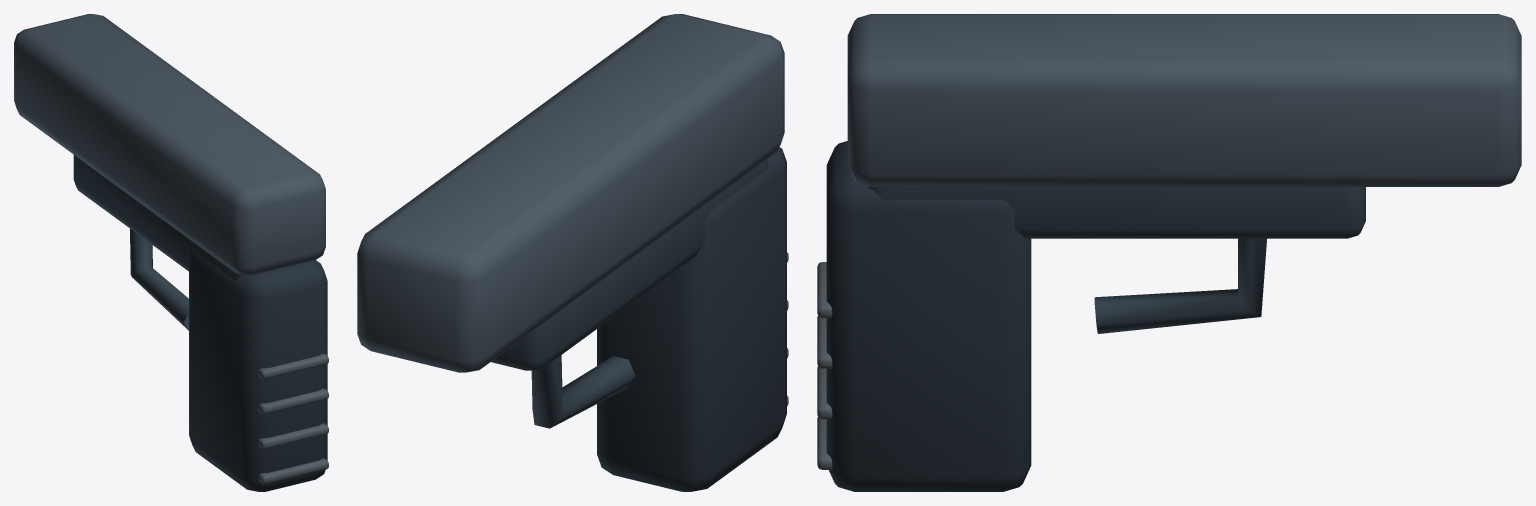
The model's file is sidearm.glb.
3 views of the same model, side by side, from view 1: azimuth 30°, elevation 25°; view 2: azimuth 150°, elevation 25°; view 3: azimuth 270°, elevation 25° (orthographic). The views are drawn at different scales.
Parts seen in each view (by area): view 1: Fictional sidearm; view 2: Fictional sidearm; view 3: Fictional sidearm.
Part boxes in pixels (bbox=[...]): Fictional sidearm: bbox=[14, 14, 328, 491]; Fictional sidearm: bbox=[357, 14, 788, 491]; Fictional sidearm: bbox=[817, 14, 1521, 491].
Size of the model in its own units: 0.033 by 0.1035 by 0.1515.
